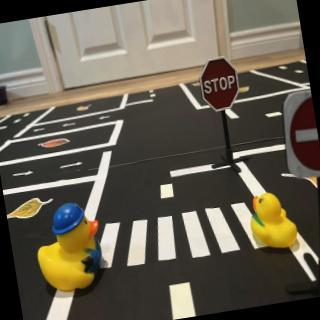duck_regular: (247, 189, 302, 257)
duck_specialty: (31, 200, 111, 298)
road_crosswalk: (91, 197, 275, 274)
road_oneway: (58, 159, 87, 173), (10, 168, 37, 182), (62, 121, 80, 130), (31, 127, 49, 136), (97, 114, 113, 123)
sign_noentry: (275, 89, 320, 183)
sign_stop: (198, 56, 245, 116)
